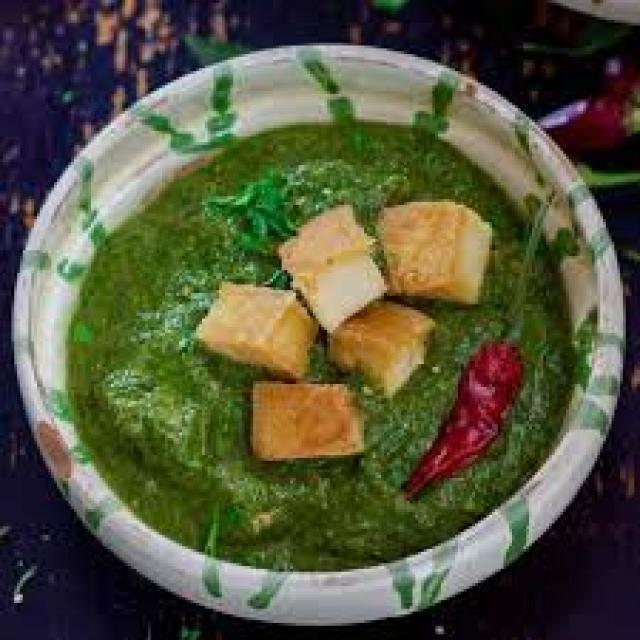Palak Paneer: (64, 120, 578, 572)
